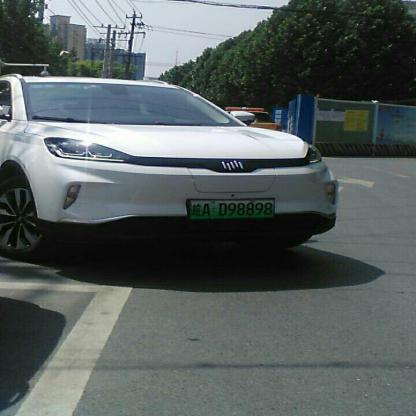lp: (191, 200, 275, 218)
